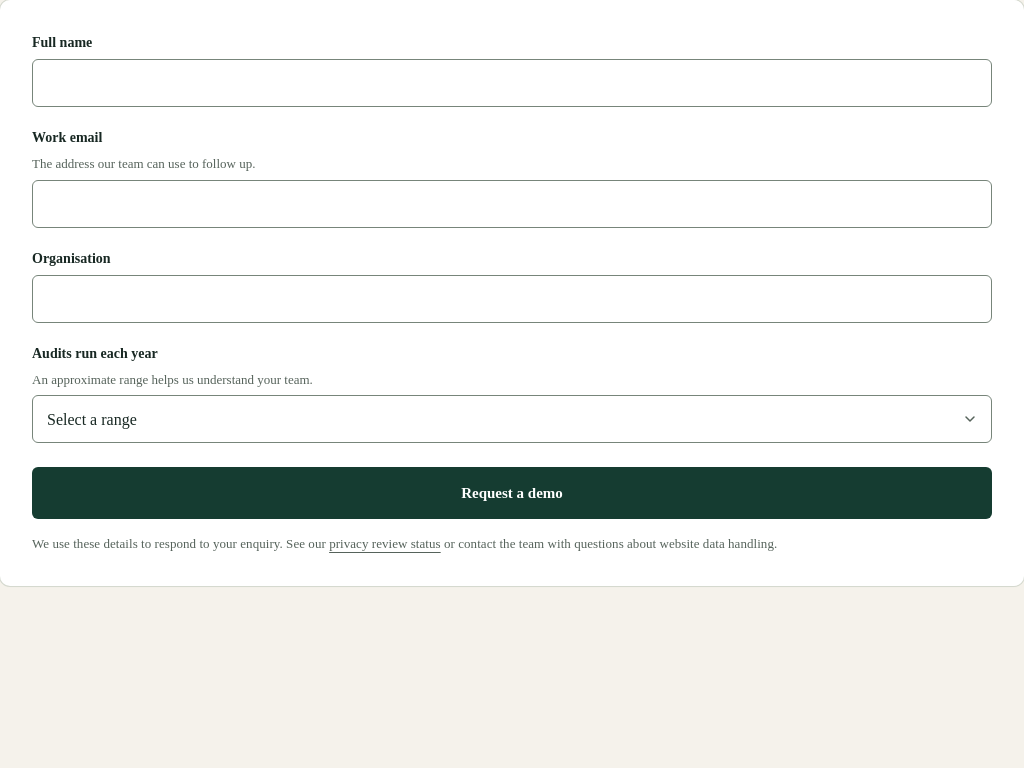
Test: demo form › maps server field errors, focuses the field and retains the draft
Type "Asha Rao" into the field labelled "Full name".
click(512, 83); type("Asha Rao")  # box [32,59,992,107]
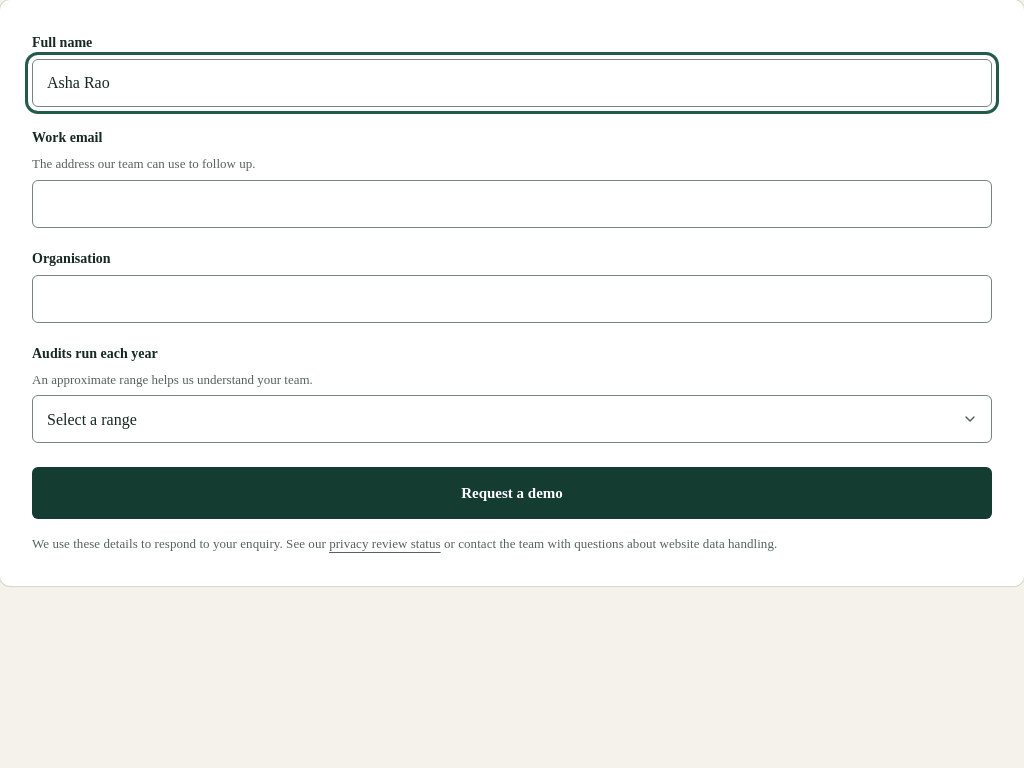
Type "asha@example.com" into the field labelled "Work email".
click(512, 204); type("asha@example.com")  # box [32,180,992,228]
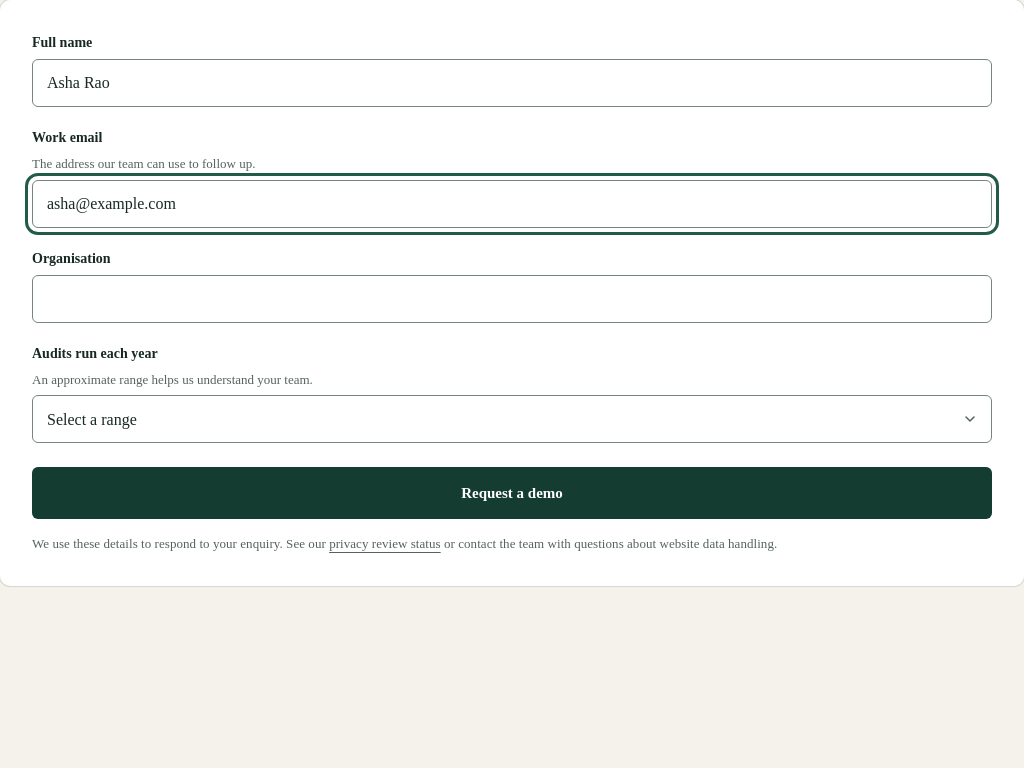
Type "Synthetic Example" into the field labelled "Organisation".
click(512, 298); type("Synthetic Example")  # box [32,274,992,322]
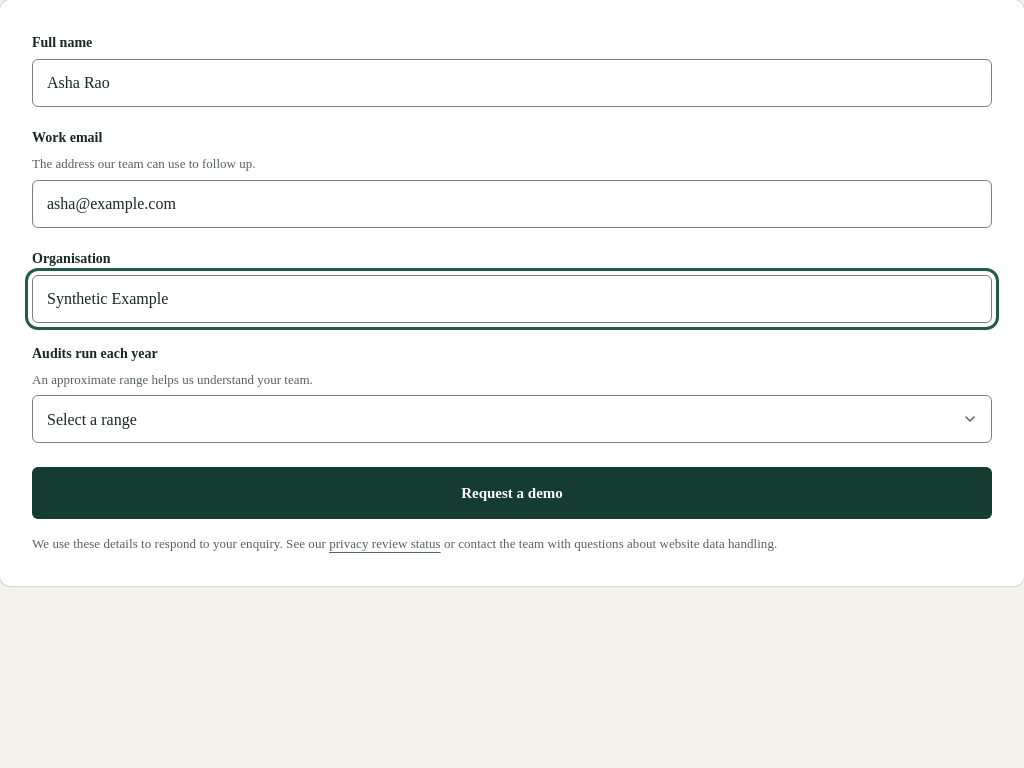
Select "11 – 50 audits a year" in the dropdown labelled "Audits run each year" at coordinates (512, 419), box [32,395,992,443]
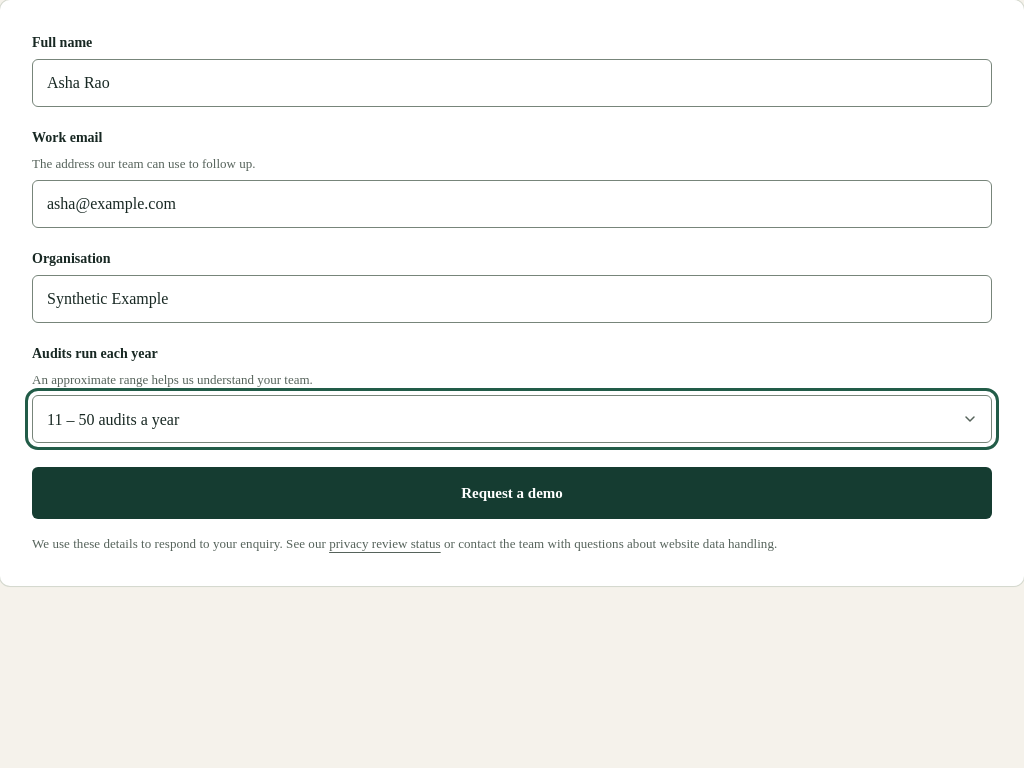
Click the button "Request a demo".
click(512, 493)  # box [32,467,992,519]
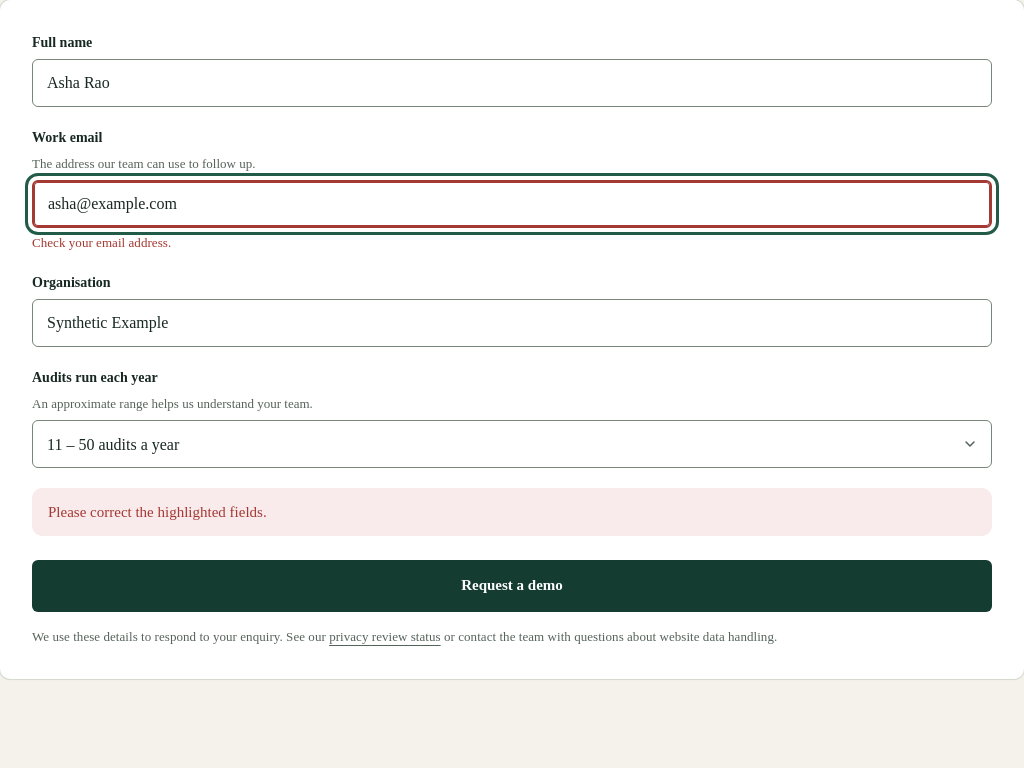
Now the text "Check your email address." is shown, box [32,234,171,250]
